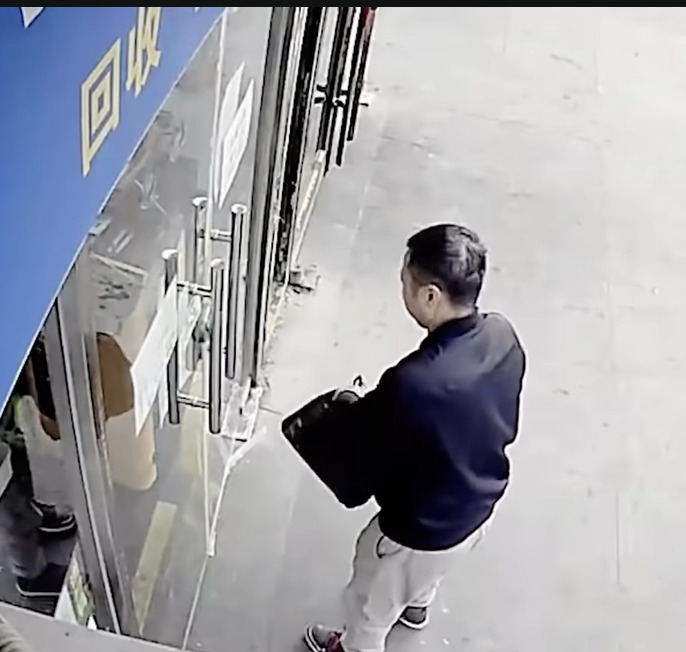person: (303, 224, 525, 652)
